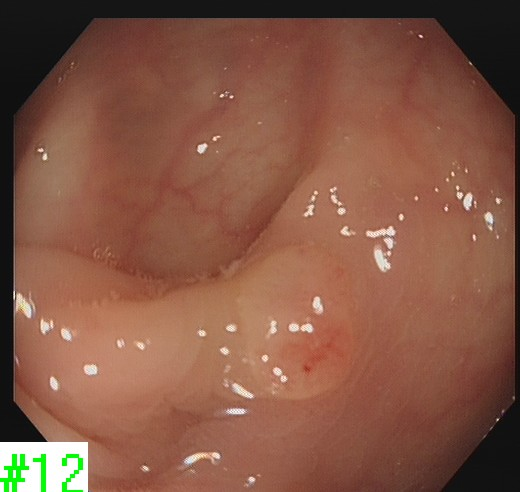adenoma: (238, 245, 357, 402)
